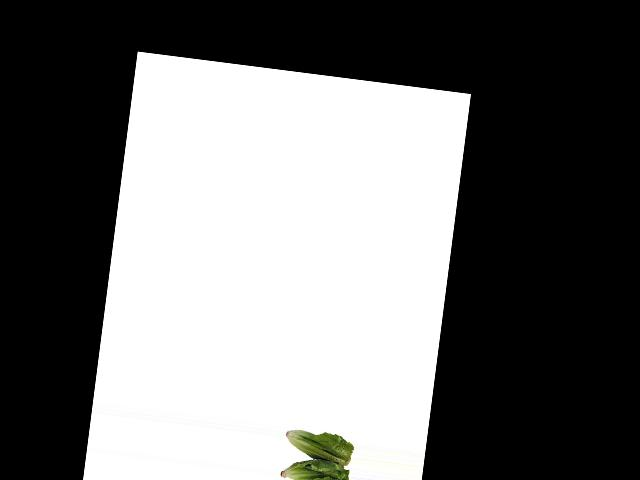lettuce: (278, 424, 355, 480)
